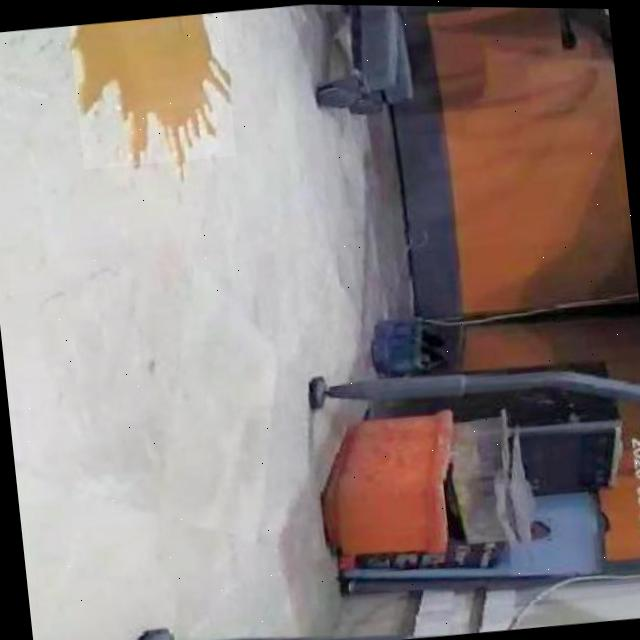spillage: (70, 13, 228, 164)
